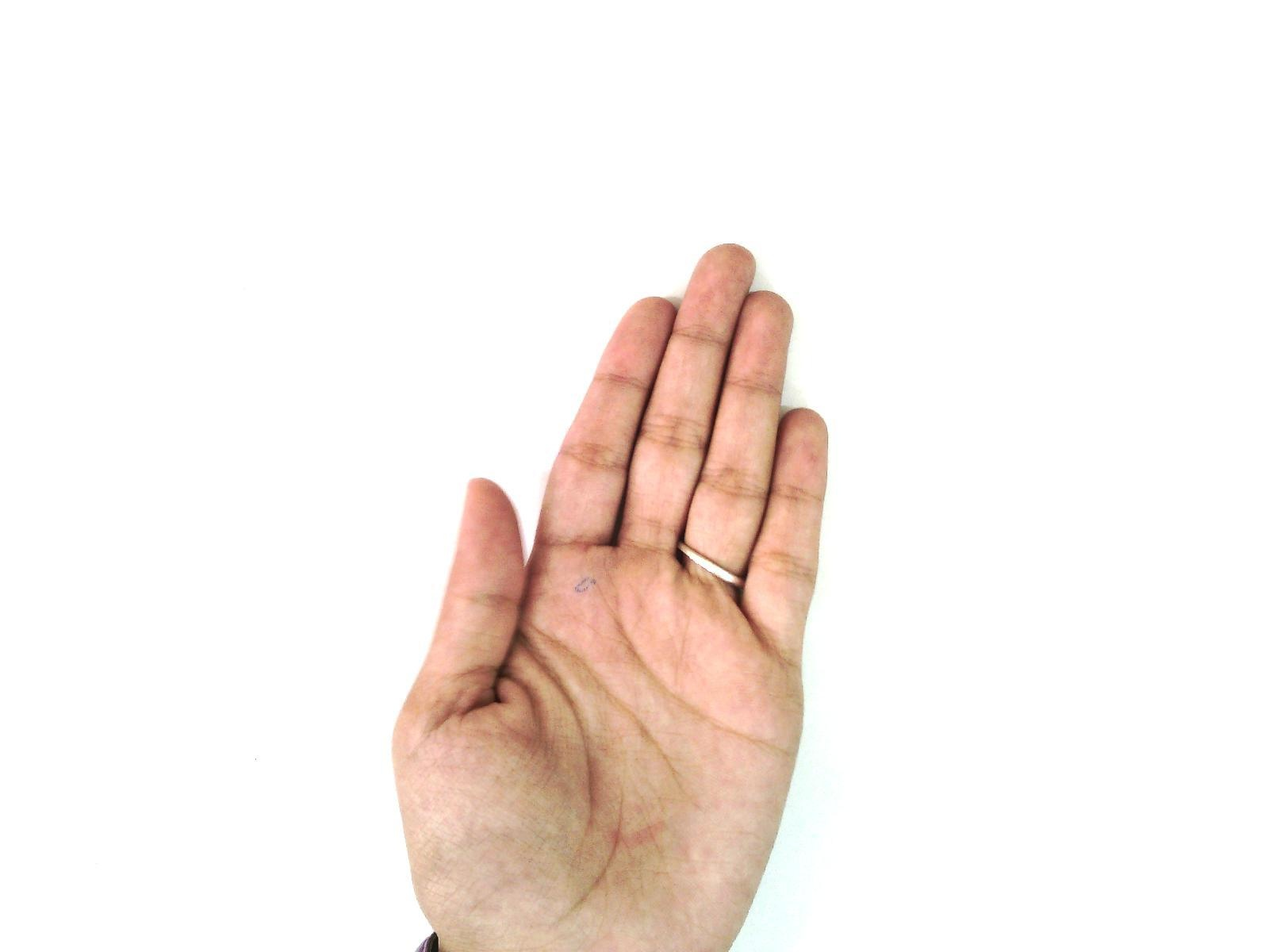open_palm: (389, 242, 832, 951)
